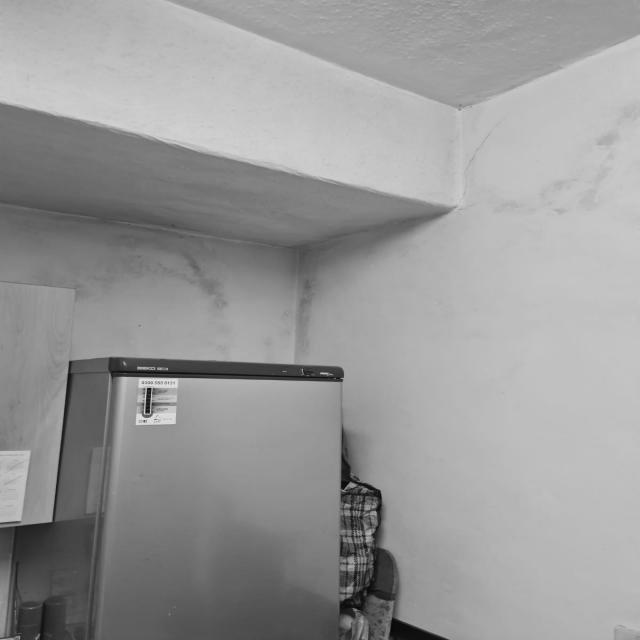stain marks: (0, 196, 247, 360), (456, 90, 637, 218), (276, 238, 366, 368)
